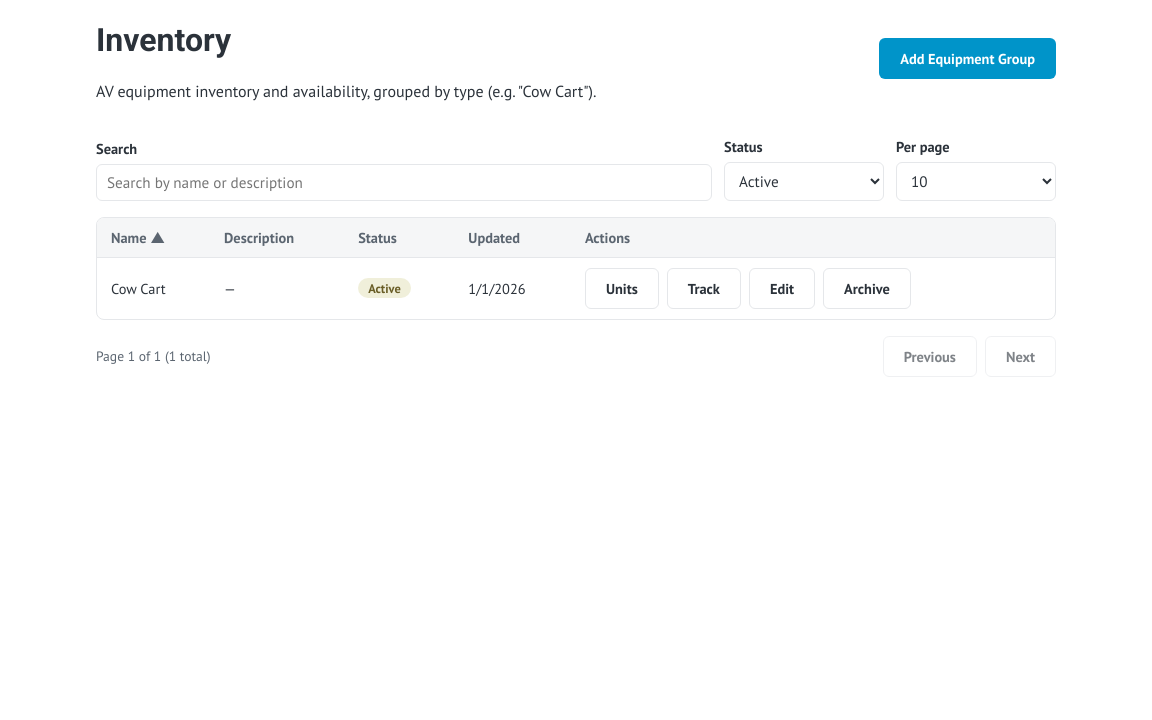
Test: expands a group to show and add its units
The width and height of the screenshot is (1152, 720).
Expected: the text "Cow Cart" is shown, left=97, top=257, right=210, bottom=319
Click the button "Units" at (622, 288), box left=585, top=268, right=659, bottom=309
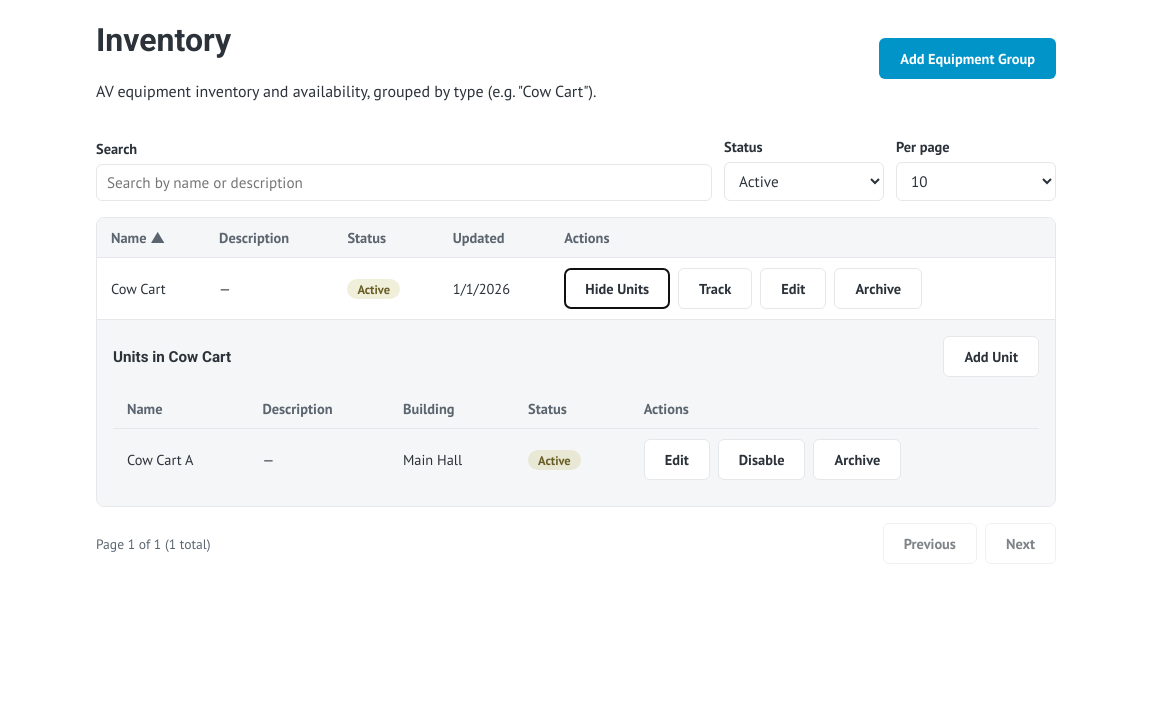
Expected: the text "Cow Cart A" is shown, left=113, top=429, right=248, bottom=490
Click the button "Add Unit" at (991, 357), box left=943, top=336, right=1039, bottom=377
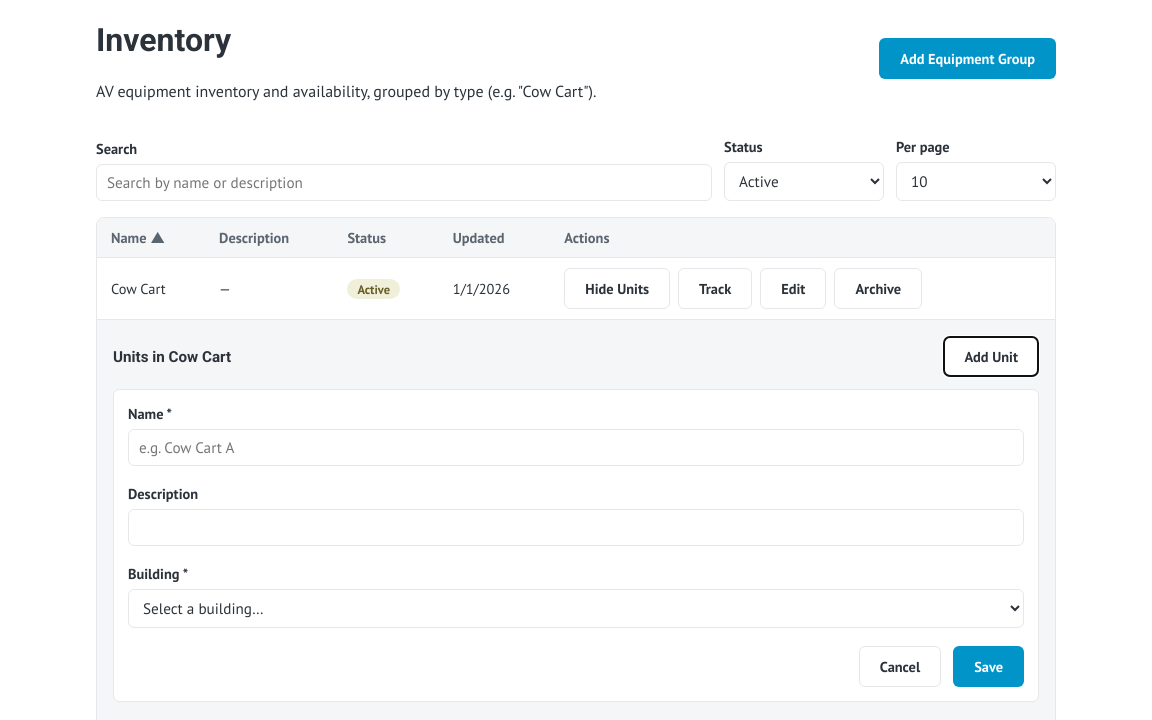
Type "Cow Cart B" into the field with placeholder "e.g. Cow Cart A" at (576, 448), box left=128, top=429, right=1024, bottom=466
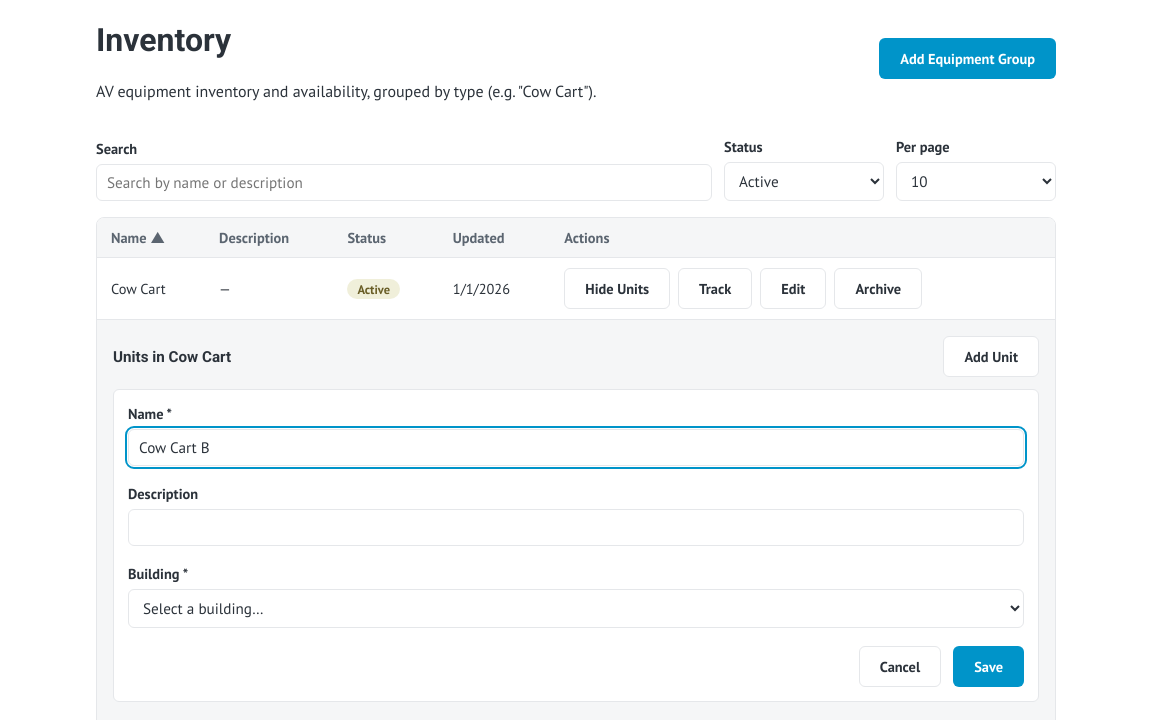
// Building is required — pick one before submitting.
Select "Main Hall" in the dropdown labelled "Building *" at (576, 609), box left=128, top=589, right=1024, bottom=628
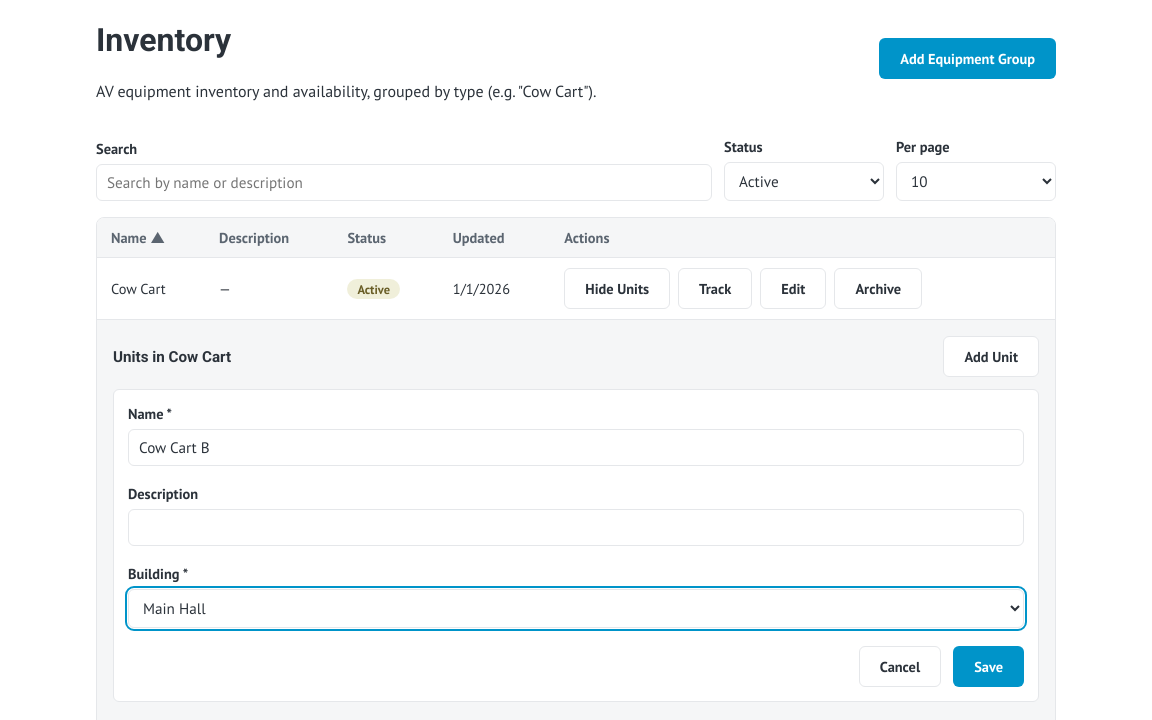
Click the button "Save" at (989, 667), box left=953, top=646, right=1024, bottom=687
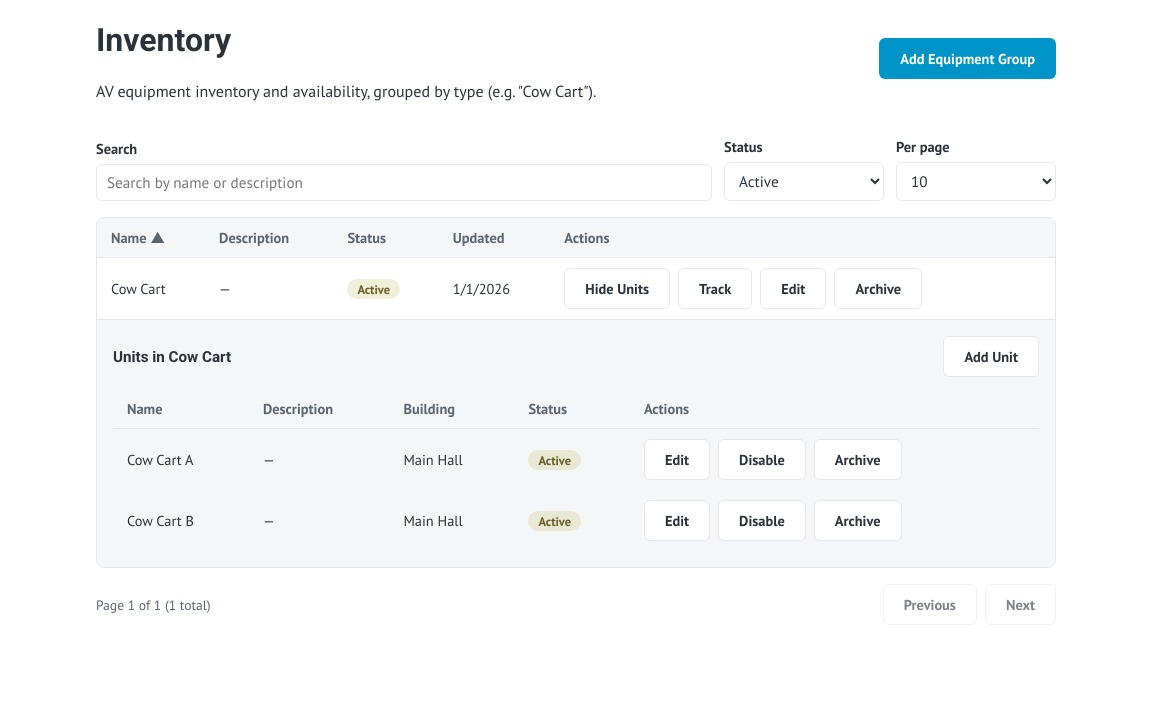
Expected: the text "Cow Cart B" is shown, left=113, top=490, right=249, bottom=551
